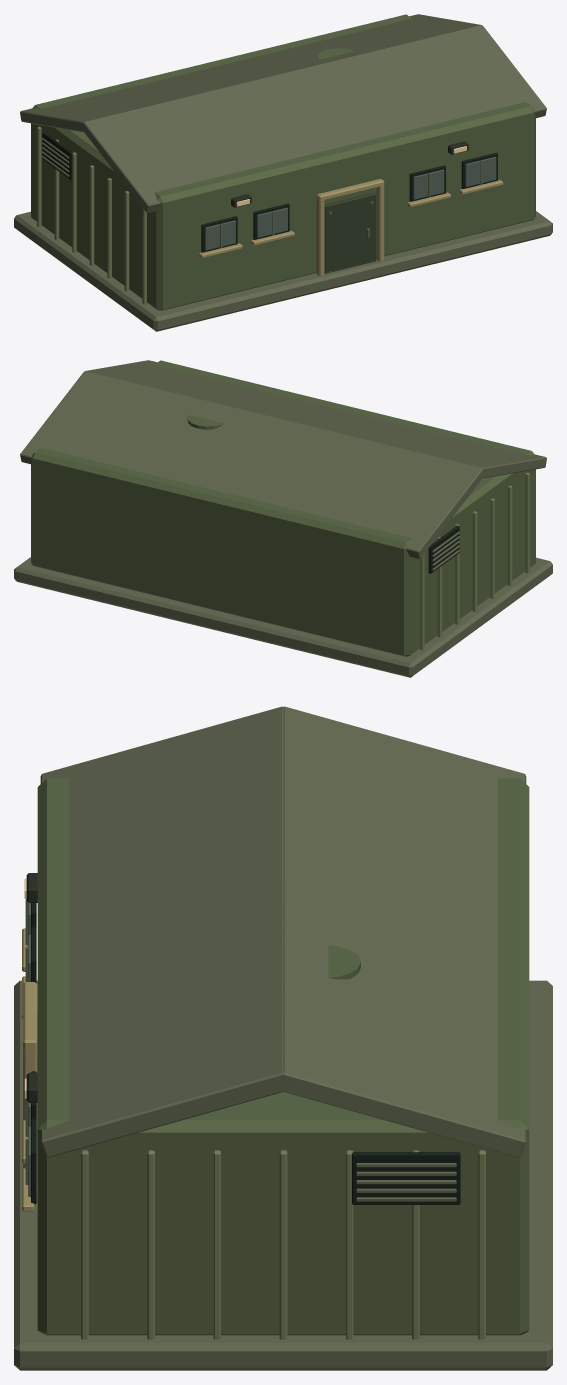
File: BarracksAuthored.obj
The picture shows the model from 3 angles, top to bottom: view 1: azimuth 30°, elevation 25°; view 2: azimuth 150°, elevation 25°; view 3: azimuth 270°, elevation 25°; orthographic projection. The views are drawn at different scales.
Parts seen in each view (by area): view 1: BarracksAuthored; view 2: BarracksAuthored; view 3: BarracksAuthored.
Part boxes in pixels (bbox=[...]): BarracksAuthored: bbox=[14, 14, 552, 331]; BarracksAuthored: bbox=[14, 360, 552, 677]; BarracksAuthored: bbox=[14, 706, 552, 1370].
Bounding box in the file's own units: 9.2 × 3.5 × 5.7.
1 material, 1 textured.
